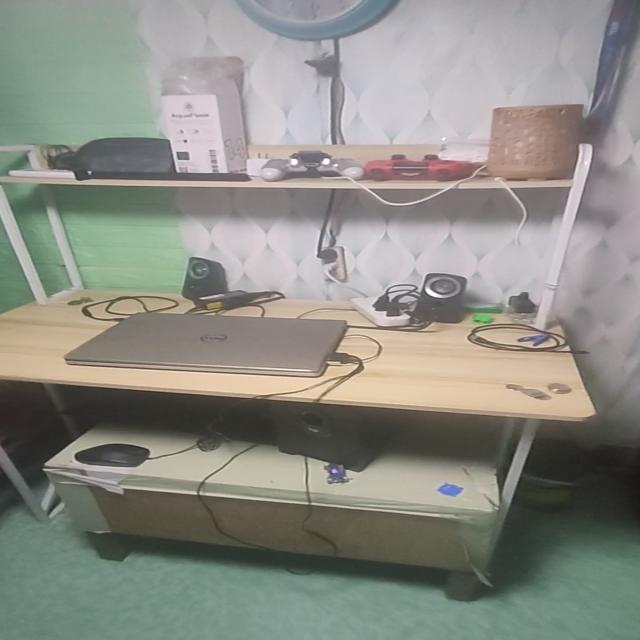table: (0, 288, 612, 589)
